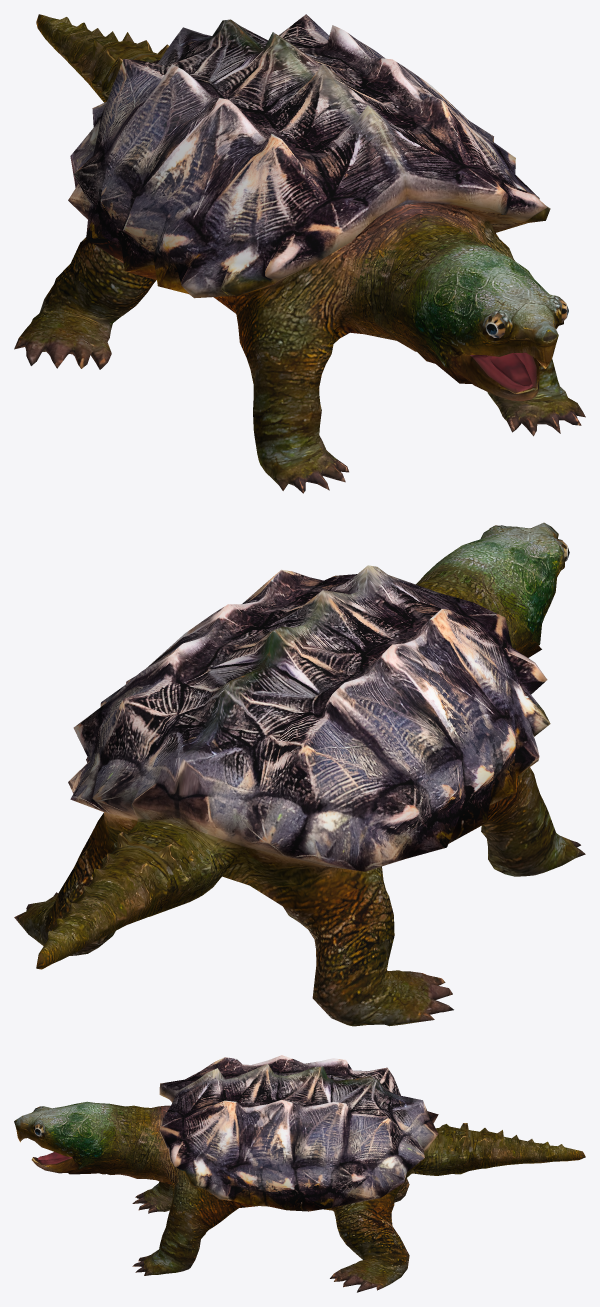
File: Snapping Turtle.fbx
3 renders of one model, top to bottom at view 1: azimuth 30°, elevation 25°; view 2: azimuth 150°, elevation 25°; view 3: azimuth 270°, elevation 25°, orthographic. The views are drawn at different scales.
Visible parts, largest first — view 1: sm_1_0_0; view 2: sm_1_0_0; view 3: sm_1_0_0.
Boxes of the visible parts, x1,y1,x2,y2 form: sm_1_0_0: (14, 14, 585, 493); sm_1_0_0: (14, 522, 585, 1026); sm_1_0_0: (14, 1055, 585, 1292).
Size of the model in its own units: 66.38 by 47.45 by 140.
1 material, 1 textured.
